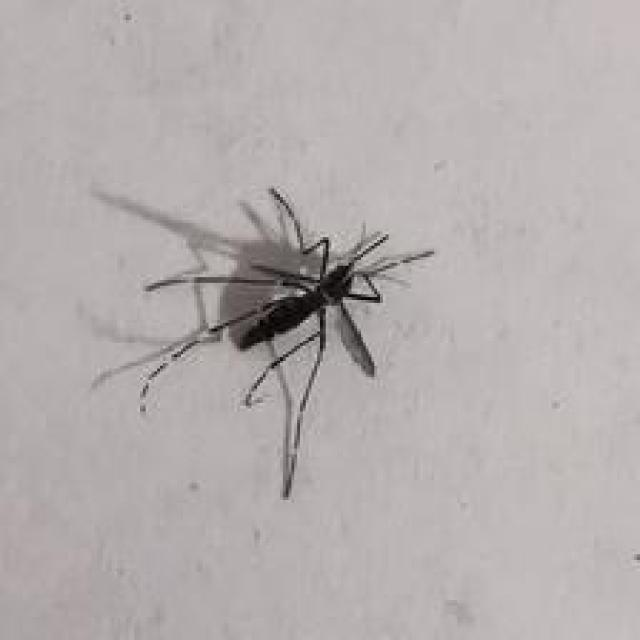Aedes albopictus: (86, 180, 434, 500)
